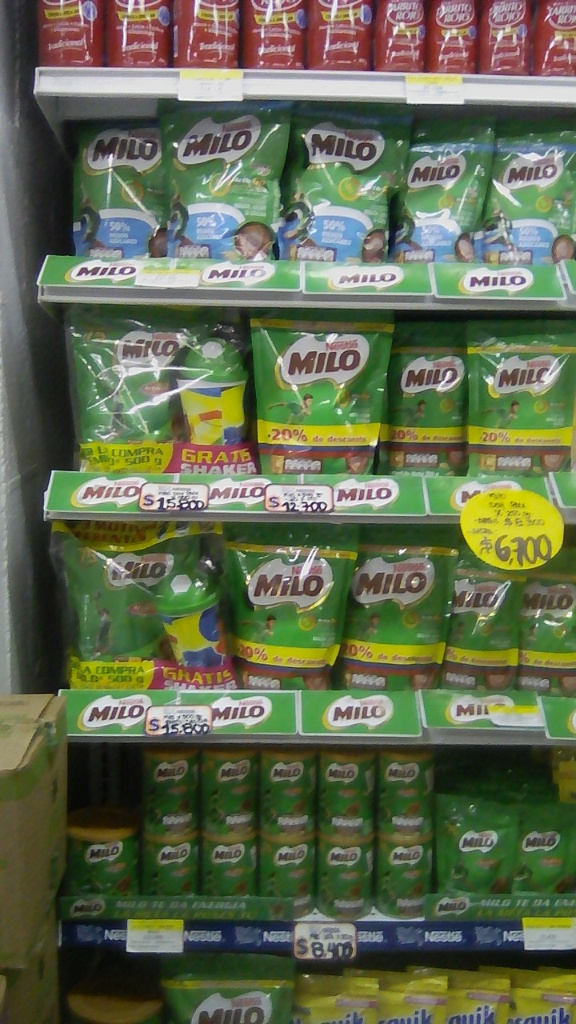COL0170203DYP10000: (511, 803, 573, 897)
COL0170203DYP25000: (468, 315, 574, 472)
COL0170203DYP50000: (53, 537, 174, 660)
COL0170203LAT20000: (376, 835, 436, 918)
COL0170203LAT40000: (66, 806, 141, 894)
COL0170205DYP20000: (490, 118, 576, 260)
